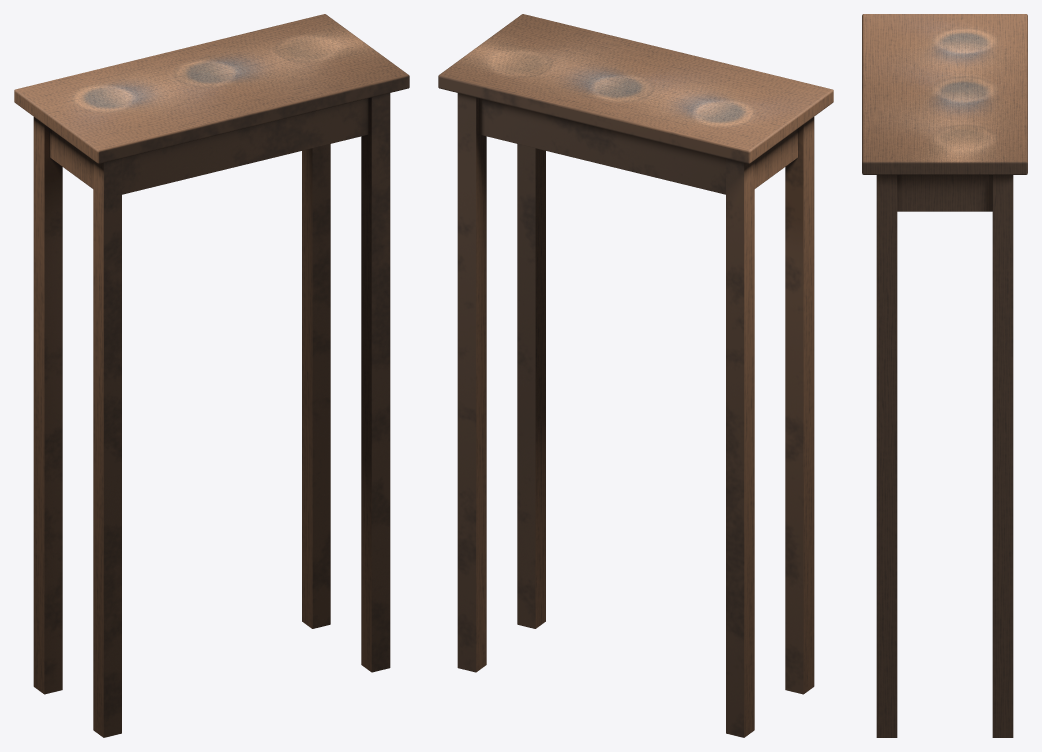
Rendered from 413_diss.glb.
The picture shows the model from 3 angles, left to right: view 1: azimuth 30°, elevation 25°; view 2: azimuth 150°, elevation 25°; view 3: azimuth 270°, elevation 25°; orthographic projection. The views are drawn at different scales.
Visible parts, largest first — view 1: Table; view 2: Table; view 3: Table.
Boxes of the visible parts, left/top/right/bottom form: Table: left=14, top=14, right=409, bottom=737; Table: left=438, top=14, right=833, bottom=737; Table: left=862, top=14, right=1027, bottom=737.
Size of what is drawn, in the model's own units: 1.7 by 3.1 by 0.8.
1 material, 1 textured.
